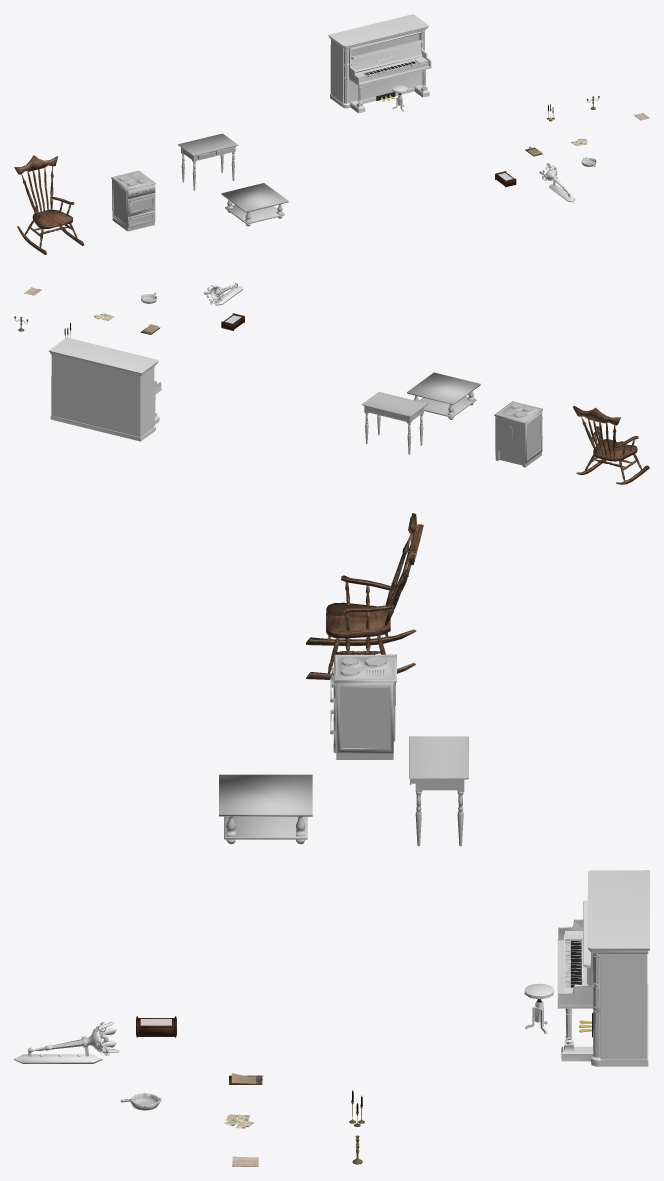
Rendered from assets kit.fbx.
The picture shows the model from 3 angles, top to bottom: view 1: azimuth 30°, elevation 25°; view 2: azimuth 150°, elevation 25°; view 3: azimuth 270°, elevation 25°; orthographic projection. The views are drawn at different scales.
Visible parts, largest first — view 1: top_board, defaultMaterial.001, Chair, Old coffee table, ds, Torch; view 2: top_board, defaultMaterial.001, Chair, Old coffee table, ds, Torch; view 3: top_board, defaultMaterial.001, Old coffee table, Chair, ds, Torch.
Part boxes in pixels (box(x1,y1,x2,y2)): top_board: box(328, 14, 431, 113); defaultMaterial.001: box(111, 171, 155, 231); Chair: box(14, 155, 84, 254); Old coffee table: box(221, 183, 288, 226); ds: box(178, 133, 238, 190); Torch: box(539, 163, 575, 202); top_board: box(48, 338, 161, 441); defaultMaterial.001: box(494, 401, 542, 467); Chair: box(573, 406, 649, 484); Old coffee table: box(407, 372, 480, 419); ds: box(361, 392, 427, 454); Torch: box(203, 283, 242, 305); top_board: box(524, 870, 649, 1066); defaultMaterial.001: box(330, 654, 396, 759); Old coffee table: box(219, 774, 312, 844); Chair: box(306, 513, 423, 679); ds: box(409, 736, 468, 846); Torch: box(14, 1022, 119, 1063).
Size of the model in its own units: 172 by 1370 by 680.
